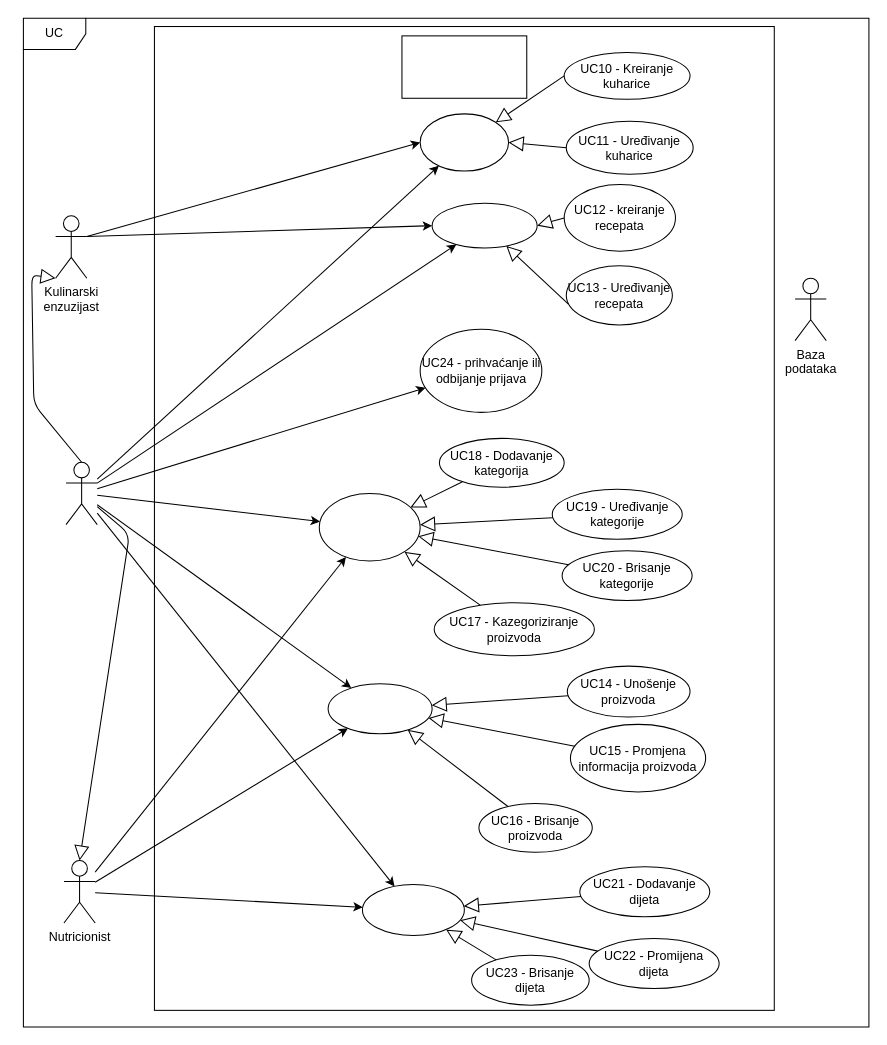
The diagram is 887 pixels wide and 1045 high, and some of its shapes have lost their labels. The shapes that lost their labels are listed below. From the top down, each one's centre as x and y in pixels, then its label:
At (x=464, y=66): "Funkcionalnosti neregistriranog korisnika i klijenta".
At (x=464, y=142): "Kuharica".
At (x=484, y=225): "Recepti".
At (x=81, y=493): "Administrator".
At (x=369, y=526): "Kategorije".
At (x=379, y=708): "Proizvodi".
At (x=412, y=909): "DIjete".
